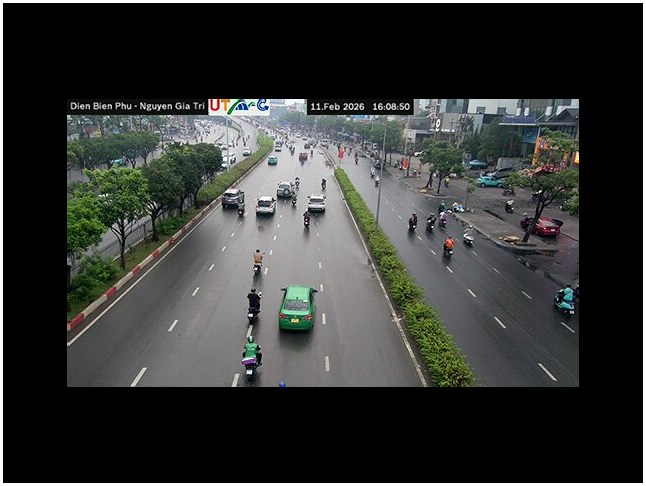car: (277, 284, 319, 332), (552, 285, 577, 315), (533, 217, 562, 238), (255, 196, 276, 217), (305, 195, 326, 216), (276, 182, 294, 199)
